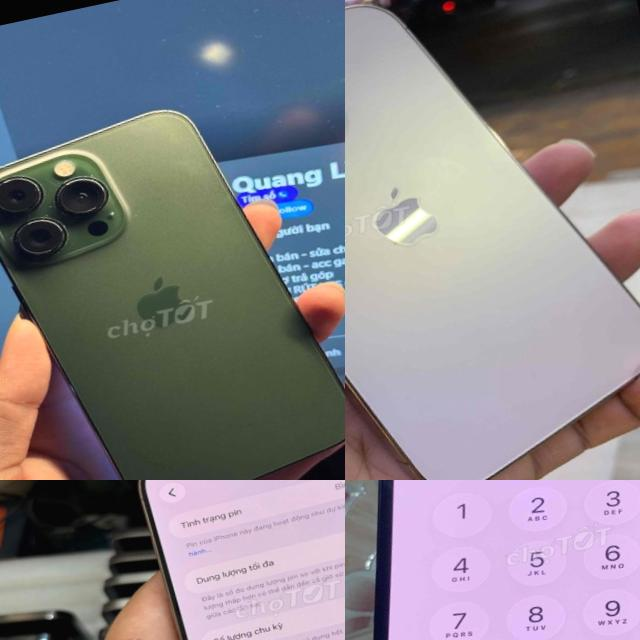gen_12_13: (345, 0, 640, 480), (0, 74, 345, 480), (345, 480, 640, 640)
gen_16: (139, 480, 345, 640)
